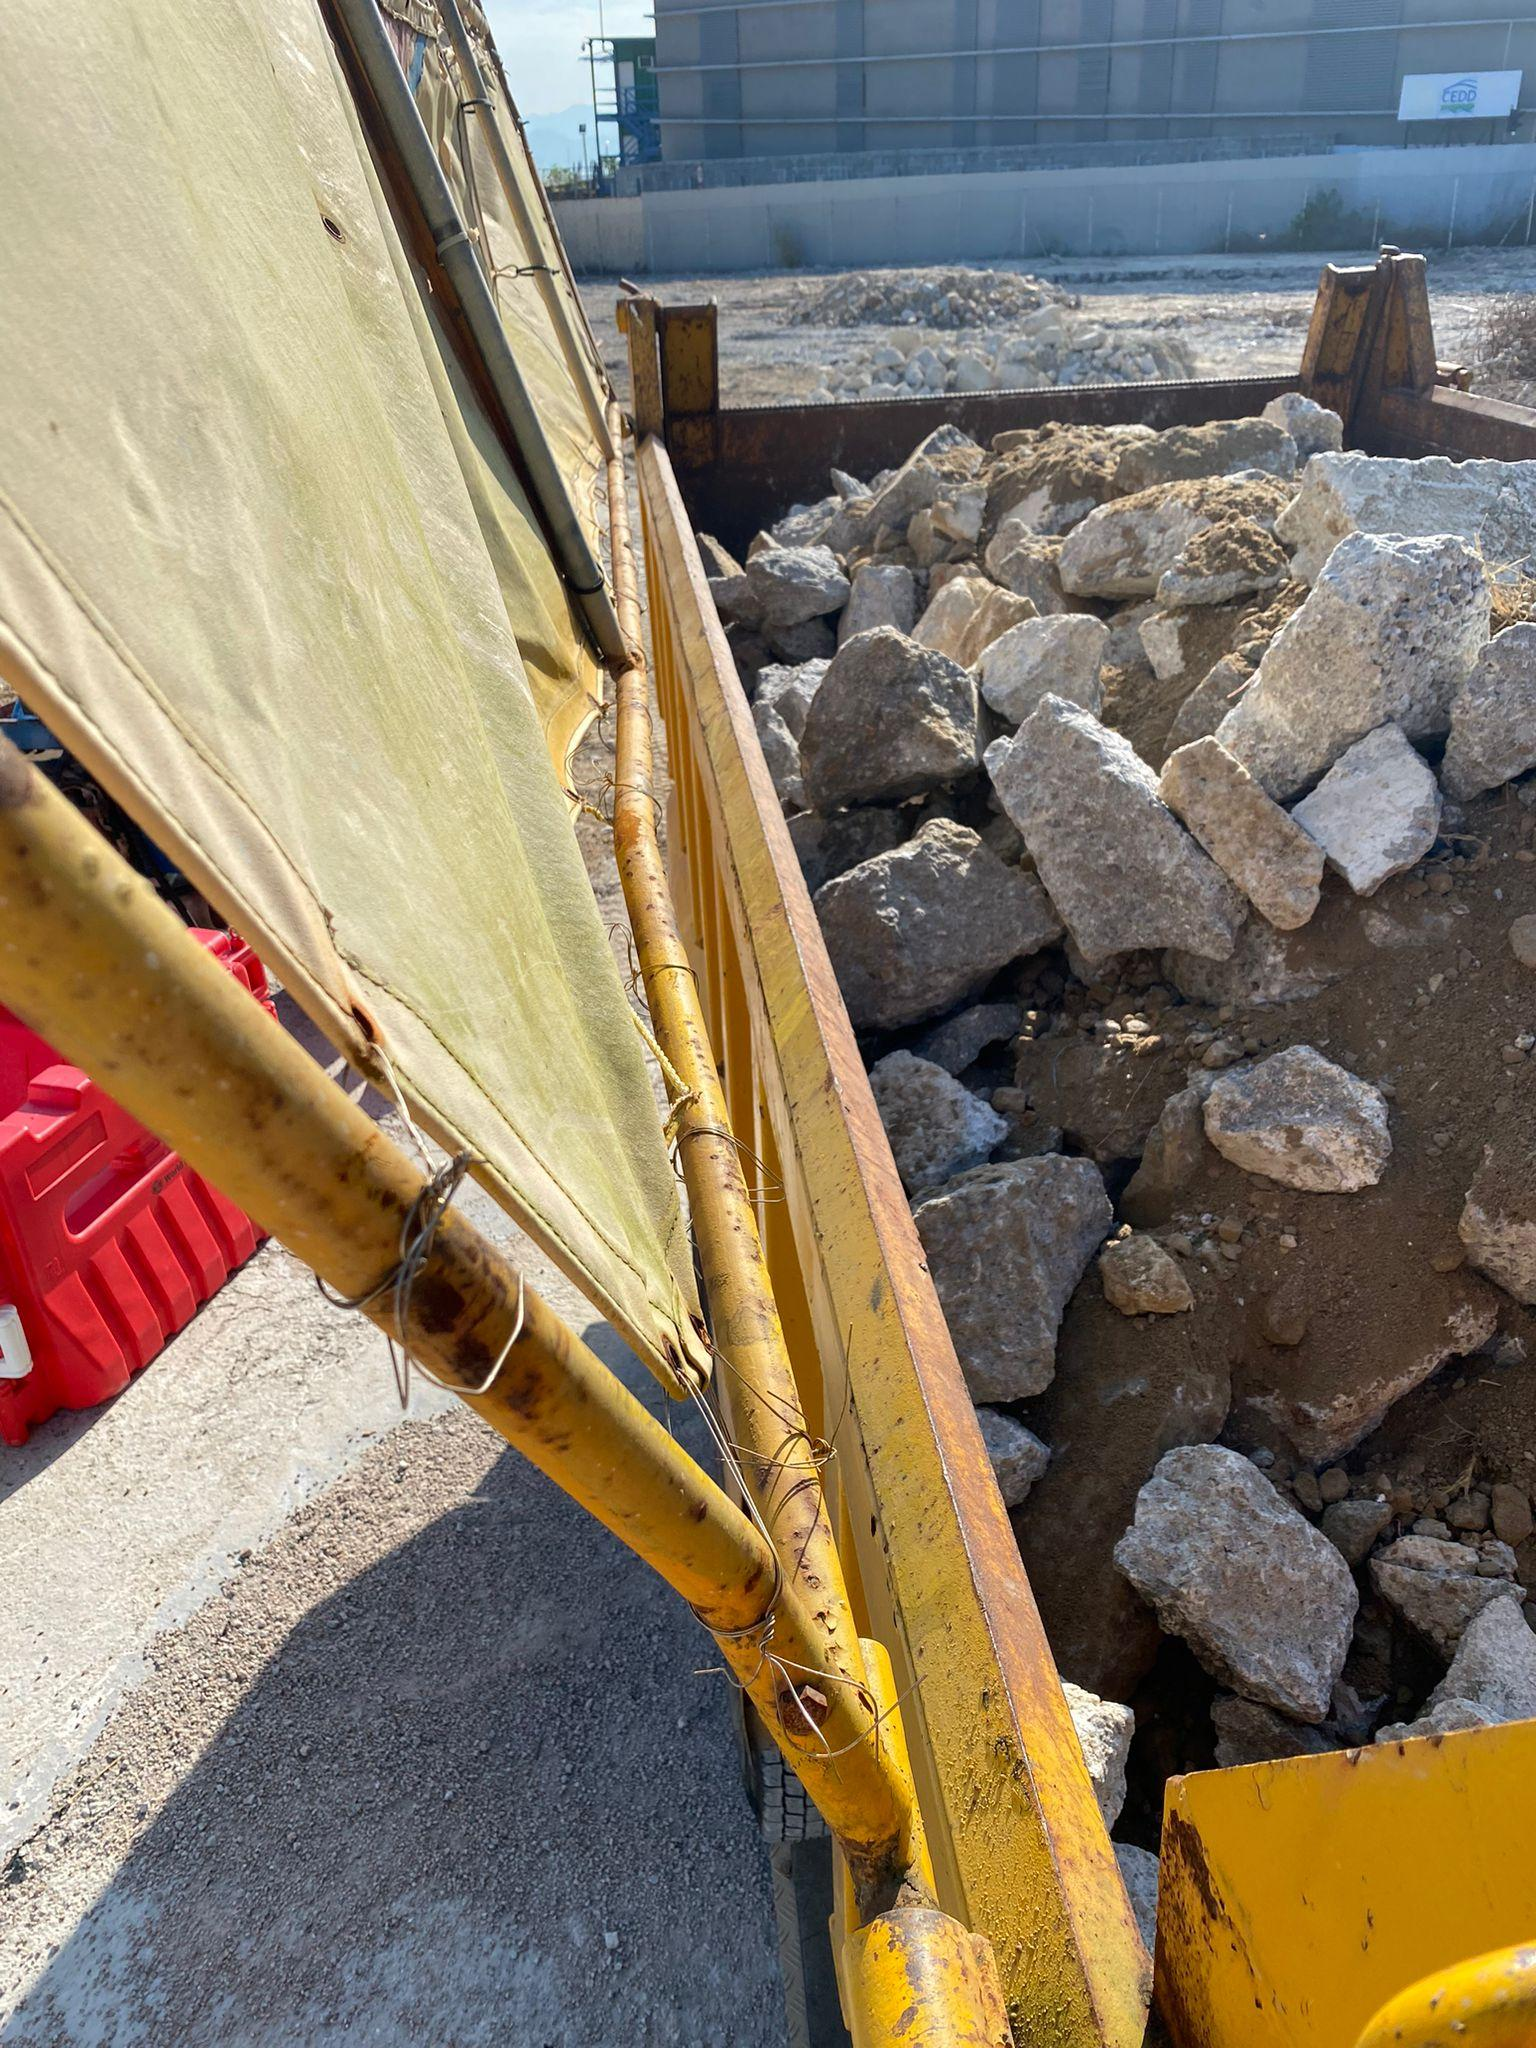dry: (760, 419, 1536, 1756)
